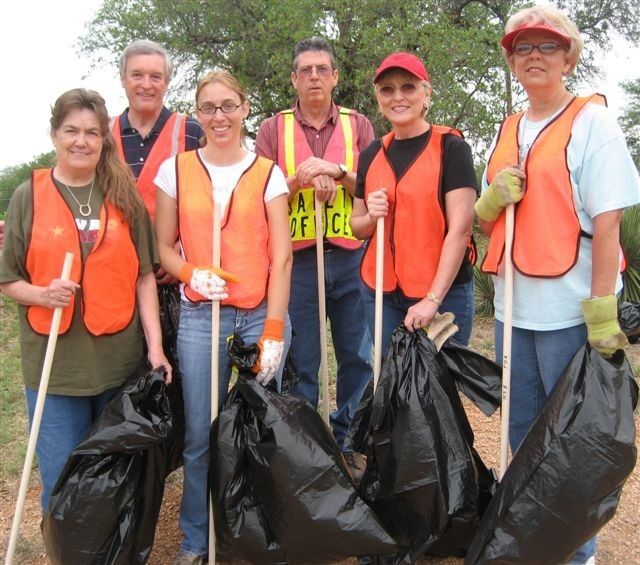person with partial safety: (7, 96, 154, 561), (480, 11, 625, 475), (173, 77, 290, 550), (264, 40, 387, 461), (358, 58, 478, 405), (109, 43, 197, 221)
safety vest: (486, 95, 622, 275), (362, 122, 466, 296), (29, 170, 136, 330), (176, 151, 273, 307), (276, 106, 368, 258), (113, 107, 187, 221)
